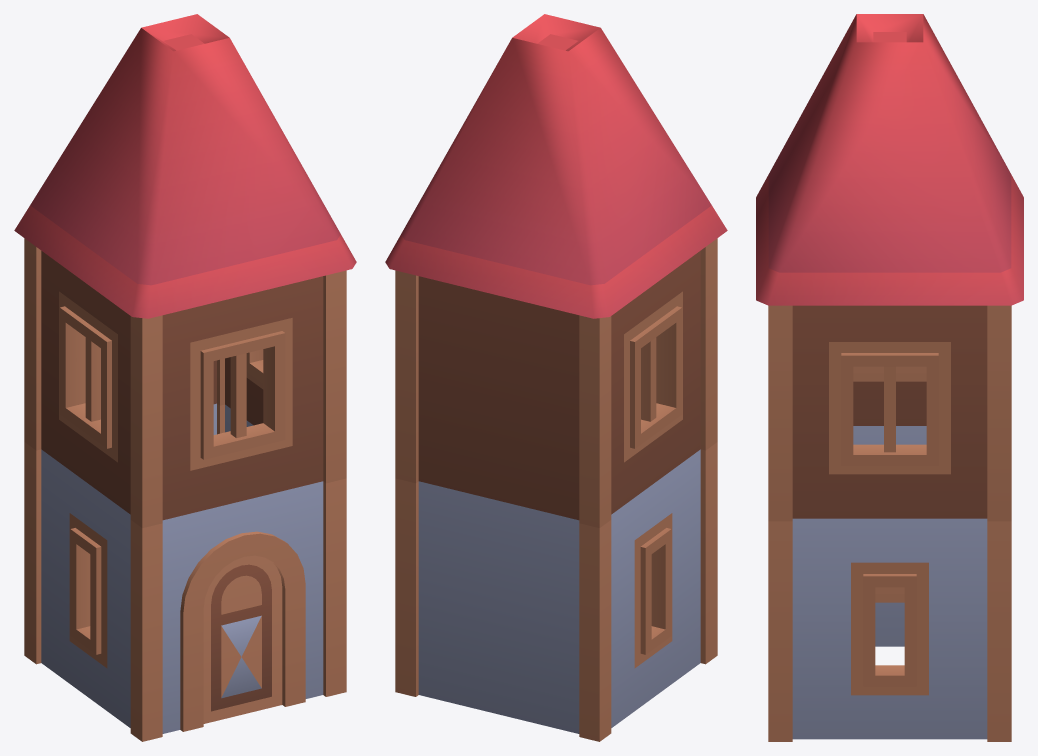
Rendered from house_2.glb.
3 views of the same model, side by side, from view 1: azimuth 30°, elevation 25°; view 2: azimuth 150°, elevation 25°; view 3: azimuth 270°, elevation 25° (orthographic). The views are drawn at different scales.
Visible parts, largest first — view 1: house_2; view 2: house_2; view 3: house_2.
Boxes of the visible parts, x1,y1,x2,y2 form: house_2: (14, 14, 356, 741); house_2: (385, 14, 727, 741); house_2: (756, 14, 1023, 741).
Size of the model in its own units: 0.792 by 2.16 by 0.792.
Materials: 9 (9 with a texture image).
